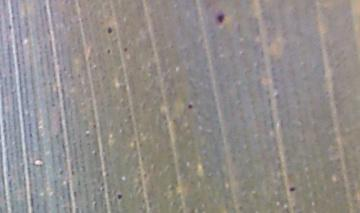tarspot: (215, 11, 225, 25), (106, 25, 114, 35), (115, 193, 124, 201), (288, 185, 296, 193), (186, 103, 194, 111), (122, 44, 128, 53), (105, 48, 112, 55)
